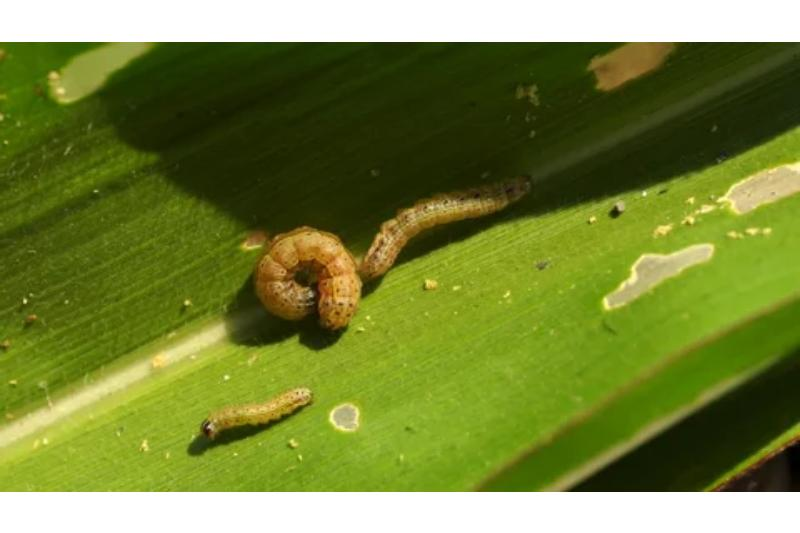fall-armyworm: (359, 176, 533, 283), (253, 226, 363, 331), (201, 389, 313, 441)
